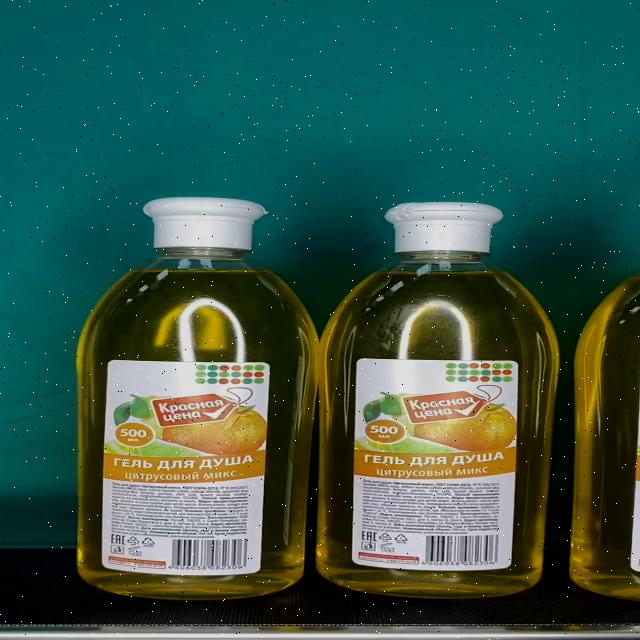Bottle: (74, 198, 320, 600), (318, 202, 559, 599)
Cap: (142, 198, 268, 248), (383, 202, 503, 253)
